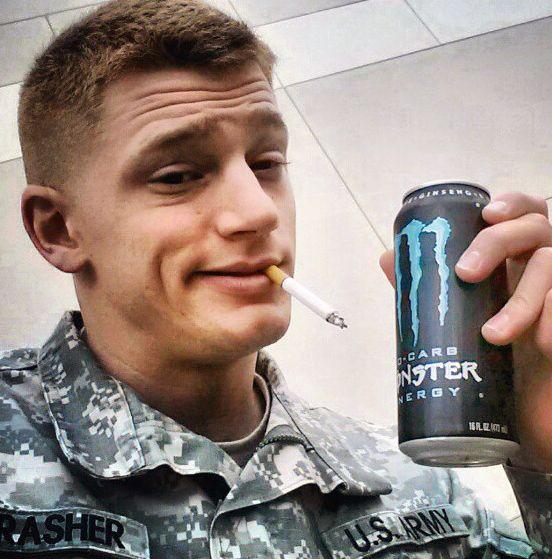cigarette: (263, 265, 348, 328)
